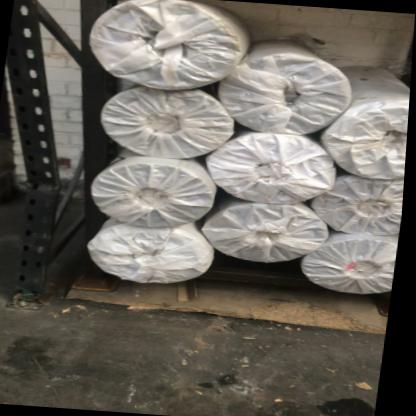vertical_damage: (1, 112, 78, 239)
